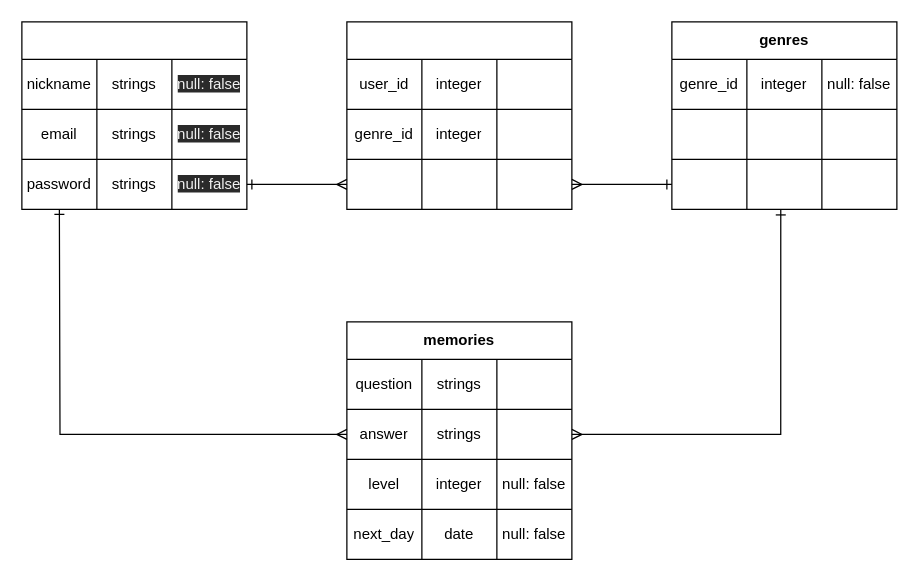
The diagram is 919 pixels wide and 581 high, and some of its shapes have lost their labels. Here are the shapes that lost their labels. From the top down, the box of each, then its label:
(21, 21, 247, 209): users
(346, 21, 572, 209): users_genres
